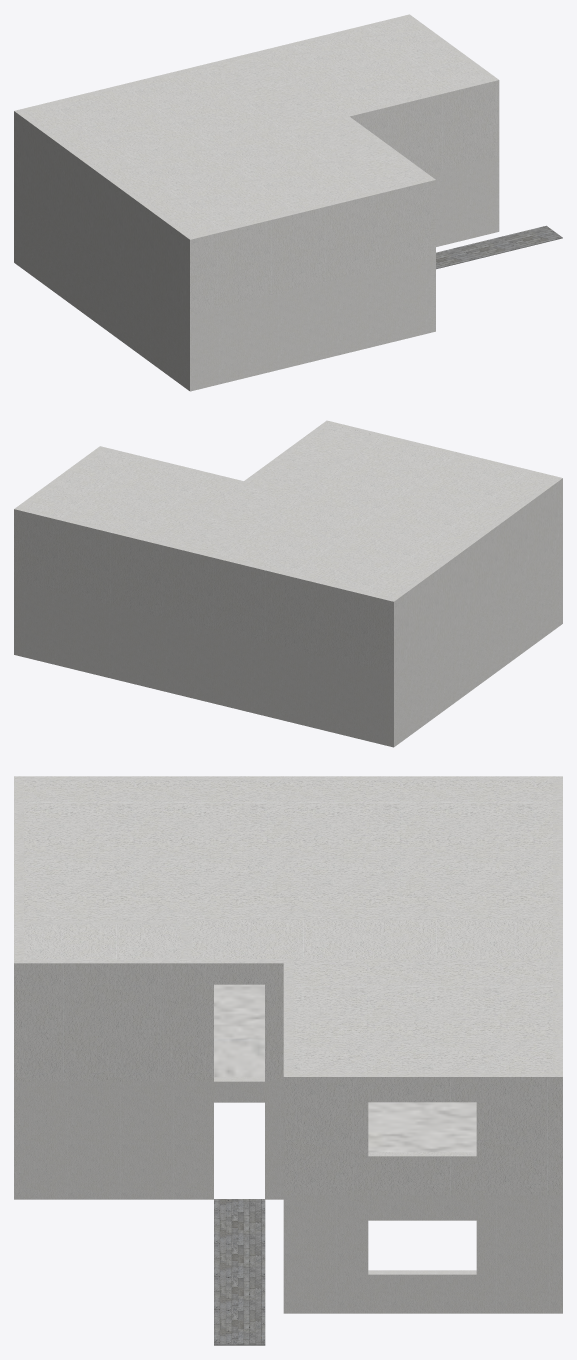
Rendered from opacos.fbx.
3 views of the same model, one above another, from view 1: azimuth 30°, elevation 25°; view 2: azimuth 150°, elevation 25°; view 3: azimuth 270°, elevation 25° (orthographic). The views are drawn at different scales.
Visible parts, largest first — view 1: P2_techo, P2_pared, PB_Pared, Banqueta; view 2: P2_techo, P2_pared, PB_Pared; view 3: P2_techo, P2_pared, PB_Pared, PB_techo, Banqueta.
Boxes of the visible parts, bbox=[...] form: P2_techo: bbox=[23, 18, 489, 235]; P2_pared: bbox=[14, 14, 499, 315]; PB_Pared: bbox=[14, 156, 499, 391]; Banqueta: bbox=[436, 225, 562, 269]; P2_techo: bbox=[22, 424, 553, 598]; P2_pared: bbox=[14, 420, 562, 674]; PB_Pared: bbox=[14, 551, 562, 747]; P2_techo: bbox=[24, 780, 552, 1072]; P2_pared: bbox=[14, 776, 562, 1195]; PB_Pared: bbox=[14, 1077, 562, 1313]; PB_techo: bbox=[214, 984, 476, 1152]; Banqueta: bbox=[214, 1199, 265, 1345].
Size of what is drawn, in the model's own units: 1818 by 605 by 1269.
Materials: 3 (3 with a texture image).
